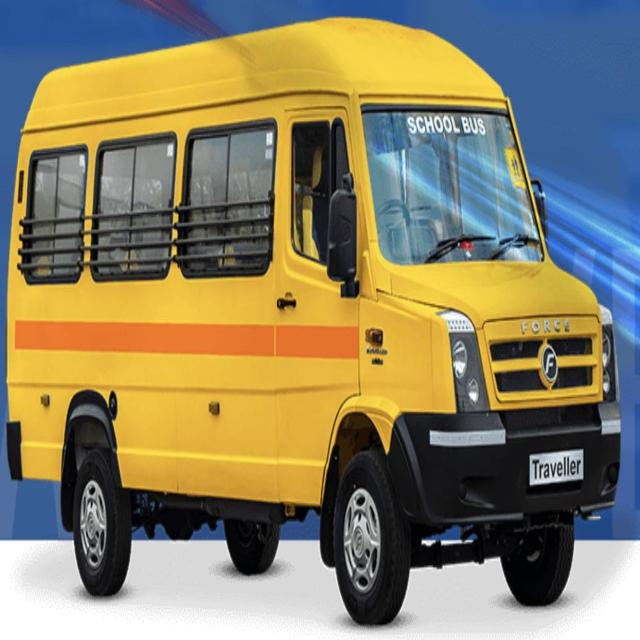bus: (8, 18, 620, 619)
